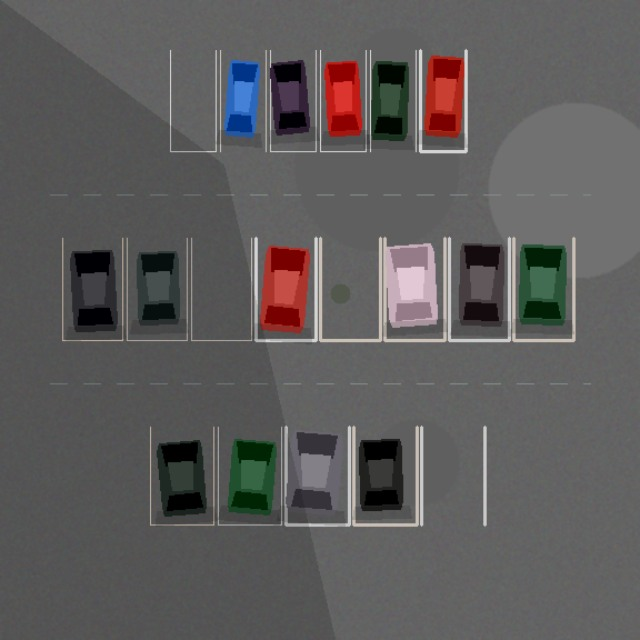space-empty: (191, 238, 251, 340), (320, 238, 380, 340), (421, 427, 484, 524), (170, 50, 216, 151)
space-occupied: (353, 427, 417, 524), (62, 238, 122, 340), (127, 238, 187, 340), (256, 238, 316, 340), (384, 238, 444, 340), (449, 238, 509, 340), (513, 238, 573, 340), (150, 427, 213, 524), (218, 427, 281, 524), (286, 427, 349, 524), (220, 50, 266, 151), (270, 50, 316, 151), (320, 50, 366, 151), (370, 50, 416, 151), (420, 50, 466, 151)
